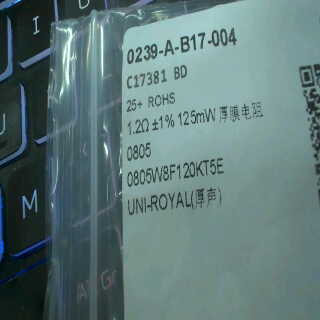1.2R: (123, 118, 151, 163)
